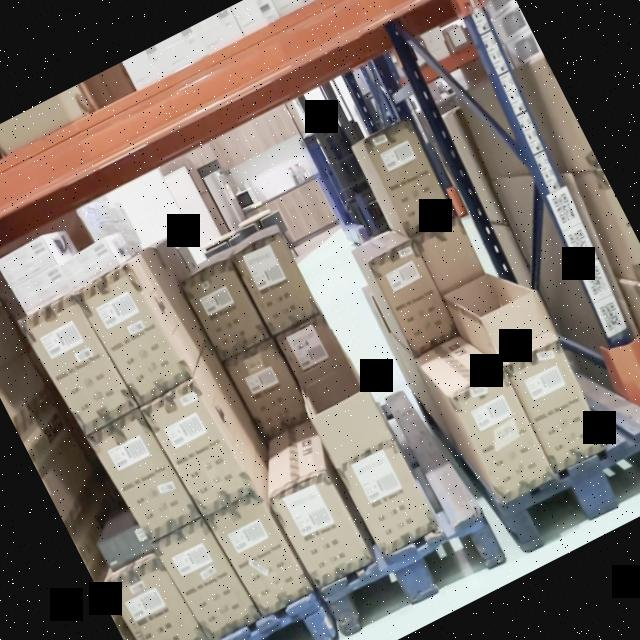box: (80, 264, 186, 404), (27, 294, 132, 434), (148, 382, 251, 518), (504, 341, 606, 472), (452, 374, 555, 502), (95, 410, 194, 540), (271, 472, 374, 592), (160, 519, 257, 640), (338, 440, 438, 556), (214, 494, 310, 614), (361, 120, 452, 236), (370, 240, 458, 354), (224, 338, 308, 439), (184, 260, 266, 358), (235, 235, 317, 332), (110, 556, 200, 640), (14, 264, 72, 313), (0, 238, 55, 285), (62, 244, 118, 288)
